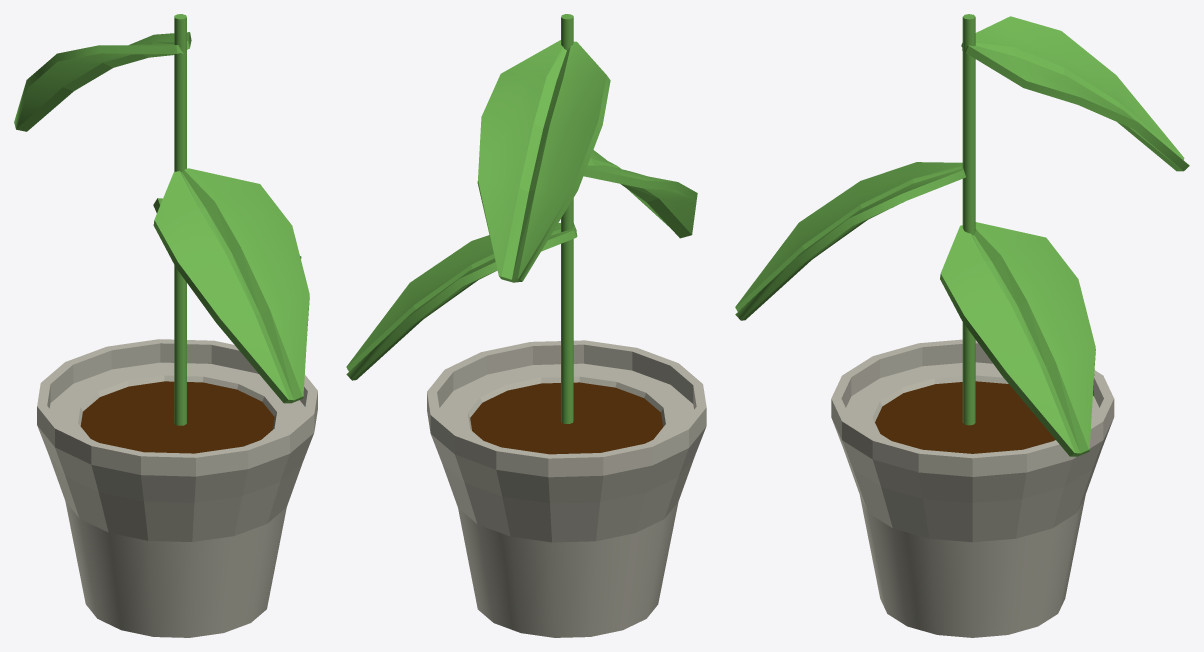
File: SM_plant_01.fbx
3 renders of one model, left to right at view 1: azimuth 30°, elevation 25°; view 2: azimuth 150°, elevation 25°; view 3: azimuth 270°, elevation 25°, orthographic.
Parts seen in each view (by area): view 1: plant_01; view 2: plant_01; view 3: plant_01.
Part boxes in pixels (bbox=[...]): plant_01: bbox=[14, 14, 317, 637]; plant_01: bbox=[346, 14, 706, 637]; plant_01: bbox=[735, 14, 1189, 637].
Bounding box in the file's own units: 60.39 × 115 × 81.23.
